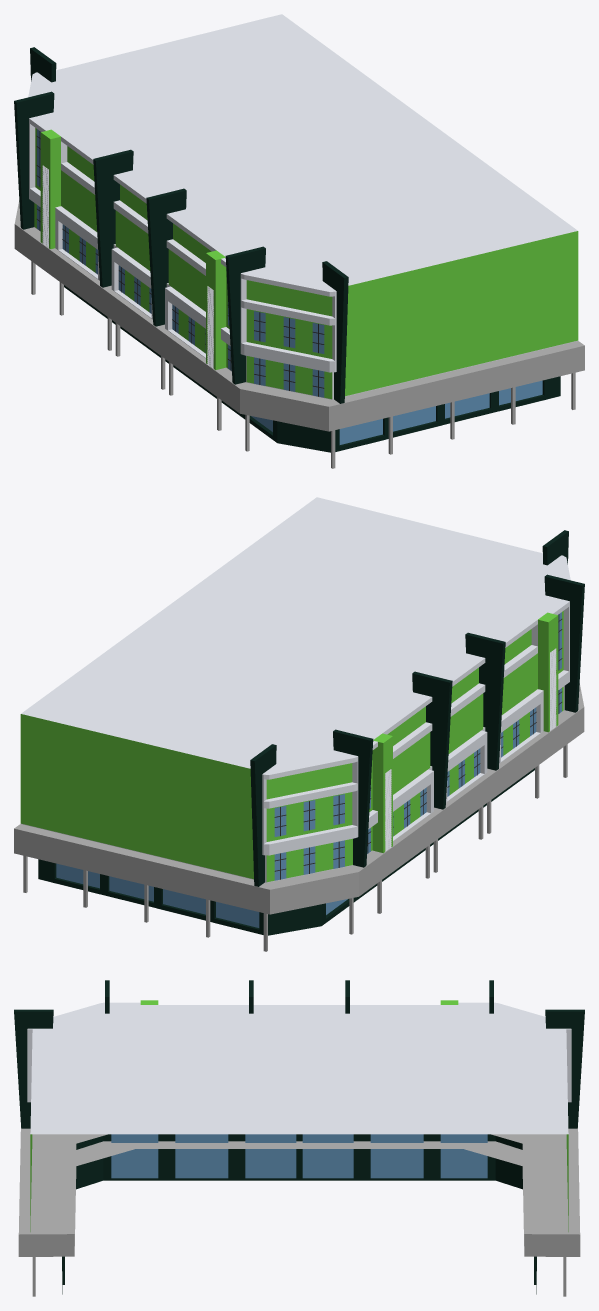
The model's file is Building_AVM.fbx.
3 views of the same model, one above another, from view 1: azimuth 30°, elevation 25°; view 2: azimuth 150°, elevation 25°; view 3: azimuth 270°, elevation 25° (orthographic). The views are drawn at different scales.
Visible parts, largest first — view 1: Building_AVM; view 2: Building_AVM; view 3: Building_AVM.
Boxes of the visible parts, x1=… form: Building_AVM: x1=14, y1=14, x2=584, y2=468; Building_AVM: x1=14, y1=497, x2=584, y2=951; Building_AVM: x1=14, y1=980, x2=584, y2=1296.
Size of the model in its own units: 272 by 166 by 478.
